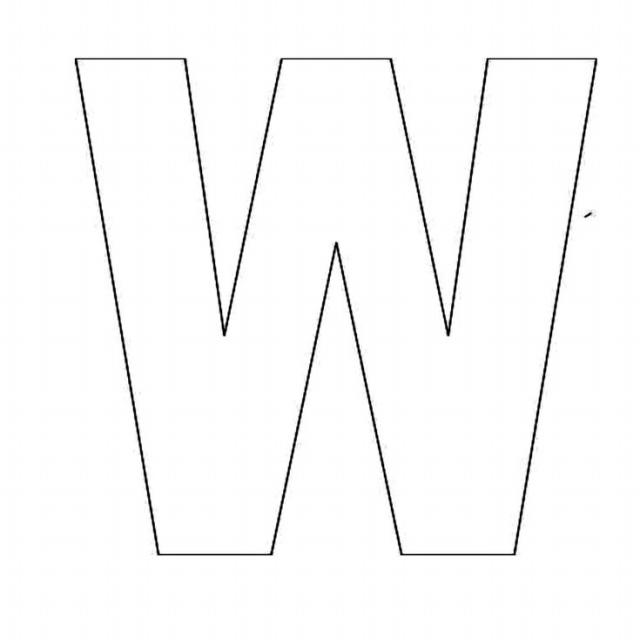W: (29, 29, 612, 606)
